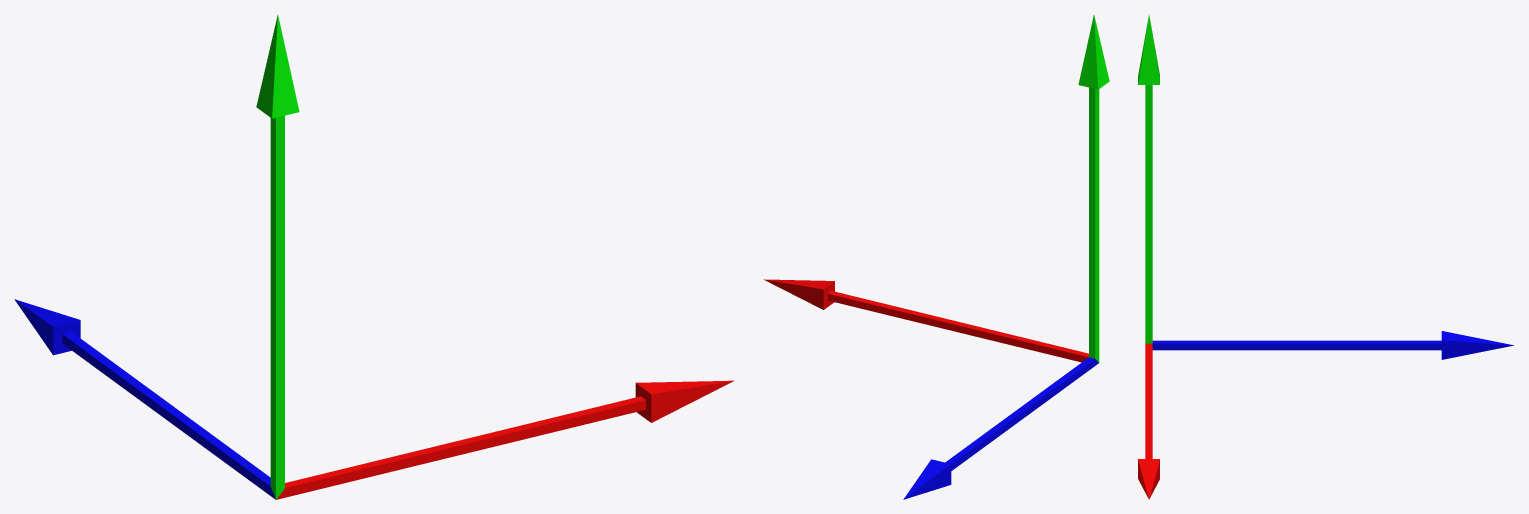
File: CoordinateSystemLH.fbx
The picture shows the model from 3 angles, left to right: view 1: azimuth 30°, elevation 25°; view 2: azimuth 150°, elevation 25°; view 3: azimuth 270°, elevation 25°; orthographic projection. The views are drawn at different scales.
Visible parts, largest first — view 1: CoordinateSystemLH; view 2: CoordinateSystemLH; view 3: CoordinateSystemLH.
Boxes of the visible parts, x1,y1,x2,y2 form: CoordinateSystemLH: [14, 14, 734, 499]; CoordinateSystemLH: [763, 14, 1109, 499]; CoordinateSystemLH: [1138, 14, 1514, 499].
Bounding box in the file's own units: 103 × 103 × 103.
